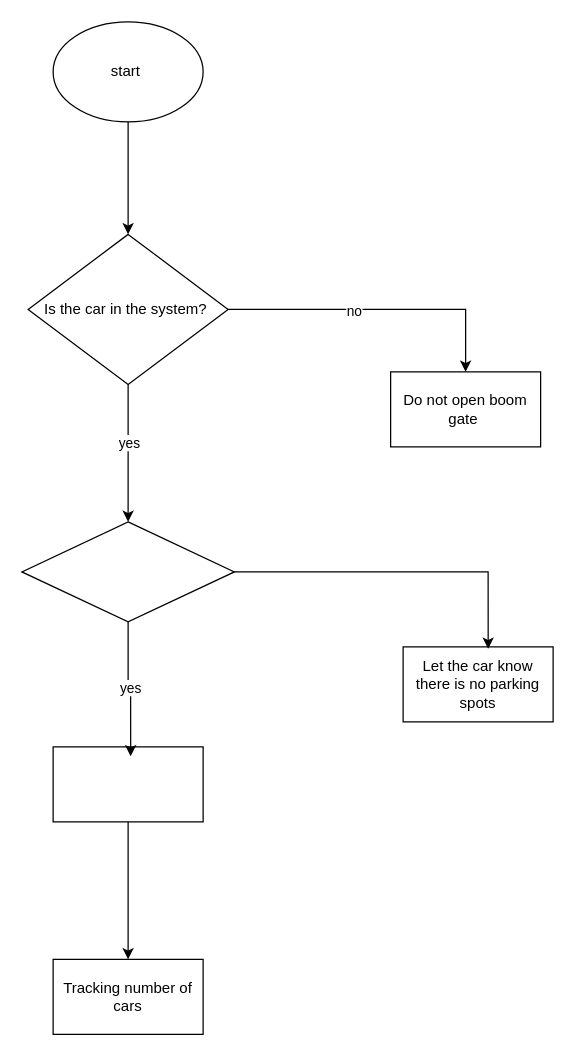
The diagram is 575 pixels wide and 1056 high, and some of its shapes have lost their labels. The shapes that lost their labels are listed below. From the top down, each one's centre as x and y in pixels, then its label:
At point (127, 571): "is there any parking available".
At point (127, 784): "open up".
